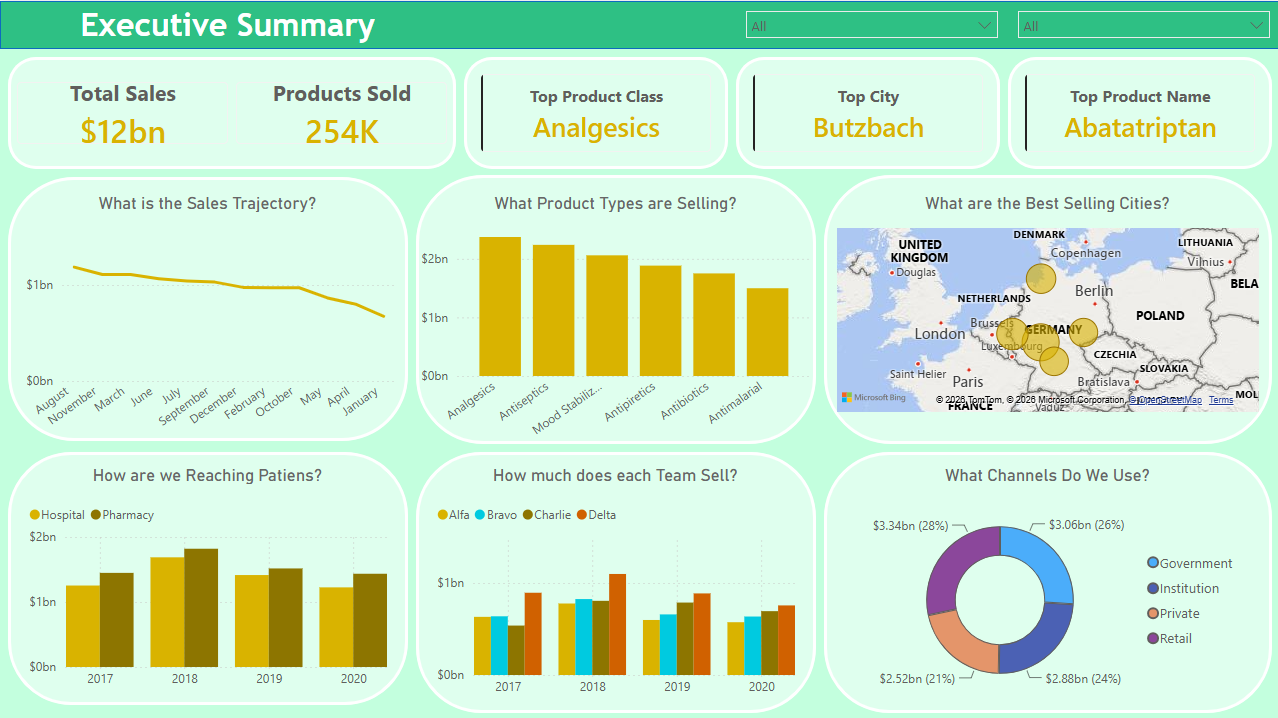

This screenshot's page, from the dashboard's own definition file:
{"tool":"powerbi","page":{"name":"Page 1","canvas":[1280,720],"ordinal":0},"visuals":[{"type":"group","id":"g1","title":"Group 1","box":[8,56,1264,656],"z":0},{"type":"shape","box":[0,0,1280,48],"z":1000},{"type":"shape","box":[464,56,264,112],"z":1000,"group":"g1"},{"type":"shape","box":[8,56,448,112],"z":2000,"group":"g1"},{"type":"lineChart","title":"What is the Sales Trajectory?","fields":{"Y":["Sum(pharma-data.Sales)"],"Category":["pharma-data.Month"]},"box":[16,192,384,256],"z":2000},{"type":"shape","box":[416,174.2,400,268.9],"z":3000,"group":"g1"},{"type":"clusteredColumnChart","title":"What Product Types are Selling?","fields":{"Category":["pharma-data.Product Class"],"Y":["Sum(pharma-data.Sales)"]},"box":[416,192,400,256],"z":3000},{"type":"shape","box":[1008,56,264,112],"z":4000,"group":"g1"},{"type":"clusteredColumnChart","title":"How are we Reaching Patiens?","fields":{"Category":["pharma-data.Year"],"Y":["Sum(pharma-data.Sales)"],"Series":["pharma-data.Channel"]},"box":[24,464,368,232],"z":4000},{"type":"map","title":"What are the Best Selling Cities?","fields":{"Category":["pharma-data.City"],"Size":["Sum(pharma-data.Sales)"],"X":["Avg(pharma-data.Longitude)"],"Y":["Avg(pharma-data.Latitude)"]},"box":[832,192,432,224],"z":5000},{"type":"shape","box":[8,451,400,253.1],"z":5000,"group":"g1"},{"type":"shape","box":[824,451,448,261],"z":6000,"group":"g1"},{"type":"clusteredColumnChart","title":"How much does each Team Sell?","fields":{"Category":["pharma-data.Year"],"Y":["Sum(pharma-data.Sales)"],"Series":["pharma-data.Sales Team"]},"box":[432,464,368,240],"z":6000},{"type":"shape","box":[8,176,400,264],"z":7000,"group":"g1"},{"type":"donutChart","title":"What Channels Do We Use?","fields":{"Y":["Sum(pharma-data.Sales)"],"Series":["pharma-data.Sub-channel"]},"box":[848,464,400,240],"z":7000},{"type":"cardVisual","fields":{"Data":["Sum(pharma-data.Sales)","CountNonNull(pharma-data.Product Name)"]},"box":[0,64,464,96],"z":8000},{"type":"shape","box":[416,451,400,261],"z":8000,"group":"g1"},{"type":"cardVisual","fields":{"Data":["Min(pharma-data.Product Class)"]},"box":[464,56,264,112],"z":9000},{"type":"shape","box":[824,174.2,448,268.9],"z":9000,"group":"g1"},{"type":"shape","box":[736,56,264,112],"z":10000,"group":"g1"},{"type":"cardVisual","fields":{"Data":["Min(pharma-data.Product Name)"]},"box":[1008,56,264,112],"z":10000},{"type":"cardVisual","fields":{"Data":["Min(pharma-data.City)"]},"box":[736,56,264,112],"z":11000},{"type":"textbox","box":[0,0,456,48],"z":12000},{"type":"slicer","fields":{"Values":["pharma-data.Country"]},"box":[1008,0,272,48],"z":13000},{"type":"slicer","fields":{"Values":["pharma-data.Year"]},"box":[736,0,272,48],"z":14000}]}

Visuals, with their boxes in screenshot pixels (x1, y1, x2, y2), scaled from the page's 1280x720 canvas onto the 1278x718 screenshot:
"Group 1" group: 8,56,1270,710
shape: 0,0,1277,48
shape: 463,56,727,168
shape: 8,56,455,168
"What is the Sales Trajectory?" lineChart: 16,191,399,447
shape: 415,174,815,442
"What Product Types are Selling?" clusteredColumnChart: 415,191,815,447
shape: 1006,56,1270,168
"How are we Reaching Patiens?" clusteredColumnChart: 24,463,391,694
"What are the Best Selling Cities?" map: 831,191,1262,415
shape: 8,450,407,702
shape: 823,450,1270,710
"How much does each Team Sell?" clusteredColumnChart: 431,463,799,702
shape: 8,176,407,439
"What Channels Do We Use?" donutChart: 847,463,1246,702
cardVisual - Sum(pharma-data.Sales) x CountNonNull(pharma-data.Product Name): 0,64,463,160
shape: 415,450,815,710
cardVisual - Min(pharma-data.Product Class): 463,56,727,168
shape: 823,174,1270,442
shape: 735,56,998,168
cardVisual - Min(pharma-data.Product Name): 1006,56,1270,168
cardVisual - Min(pharma-data.City): 735,56,998,168
textbox: 0,0,455,48
slicer - pharma-data.Country: 1006,0,1277,48
slicer - pharma-data.Year: 735,0,1006,48
